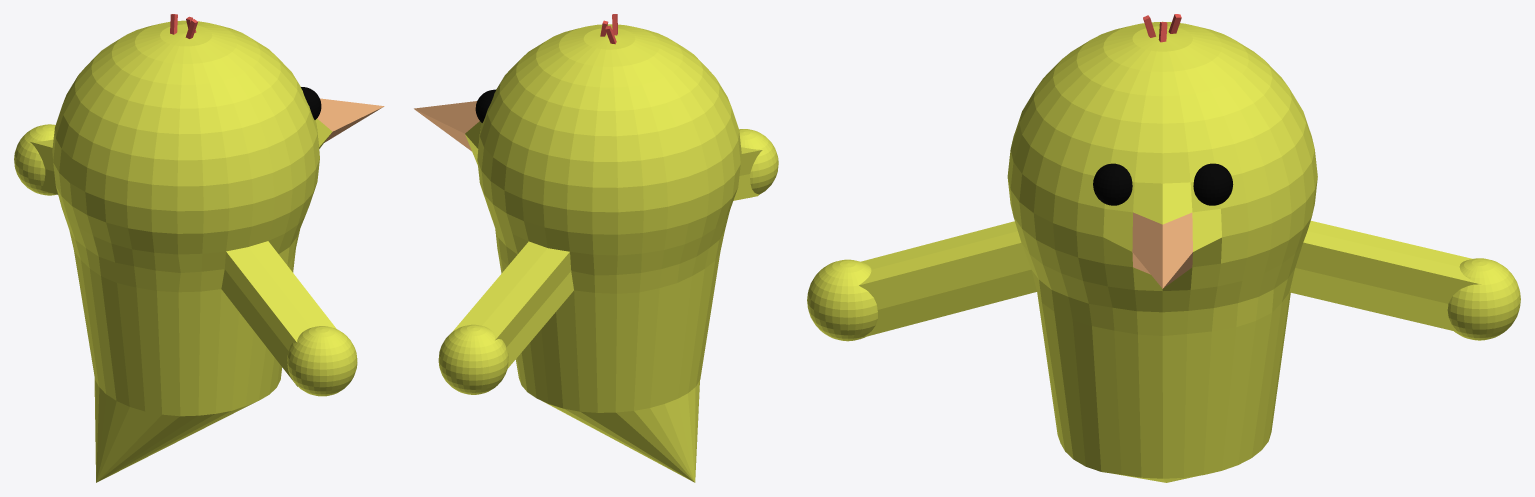
File: main character XZY.fbx
3 renders of one model, left to right at view 1: azimuth 30°, elevation 25°; view 2: azimuth 150°, elevation 25°; view 3: azimuth 270°, elevation 25°, orthographic. The views are drawn at different scales.
Parts seen in each view (by area): view 1: Theodore; view 2: Theodore; view 3: Theodore.
Boxes of the visible parts, x1,y1,x2,y2 form: Theodore: (14,14,384,482); Theodore: (414,14,778,482); Theodore: (807,14,1520,482).
Size of the model in its own units: 271 by 368 by 460.
